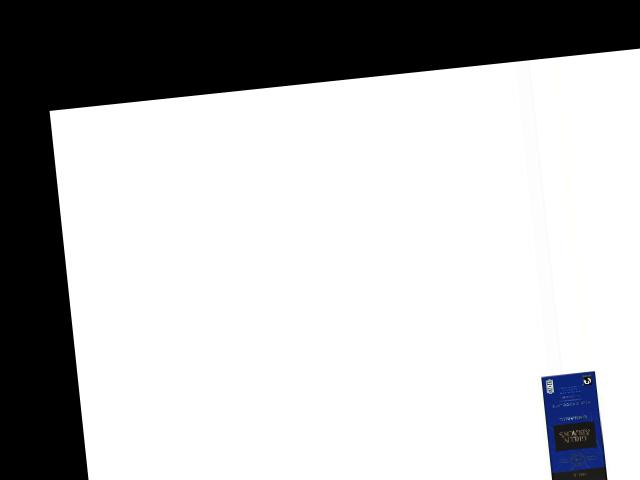chocolate: (540, 372, 607, 480)
